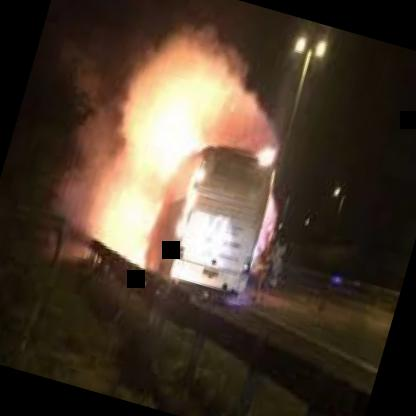fire: (82, 35, 316, 316)
